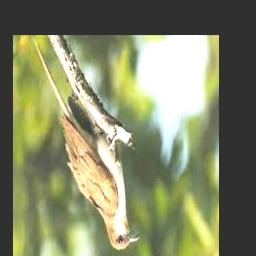Cuckoo: (34, 38, 140, 250)
